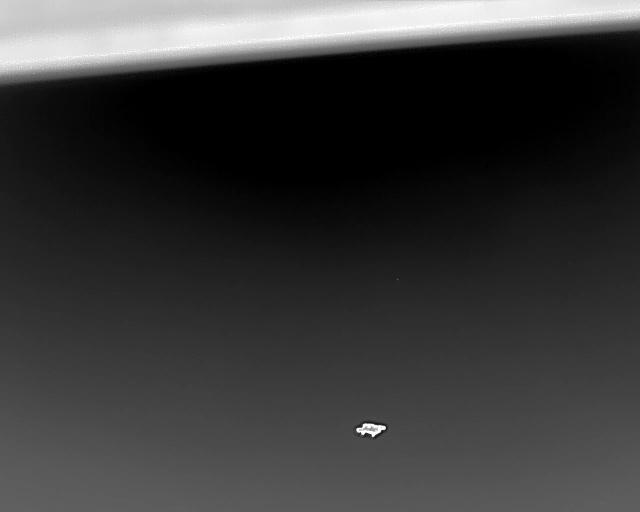fpv-drone: (355, 422, 386, 437)
